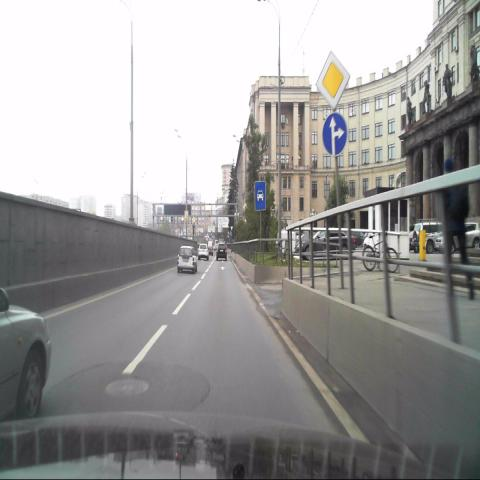5_3: (254, 181, 266, 211)
